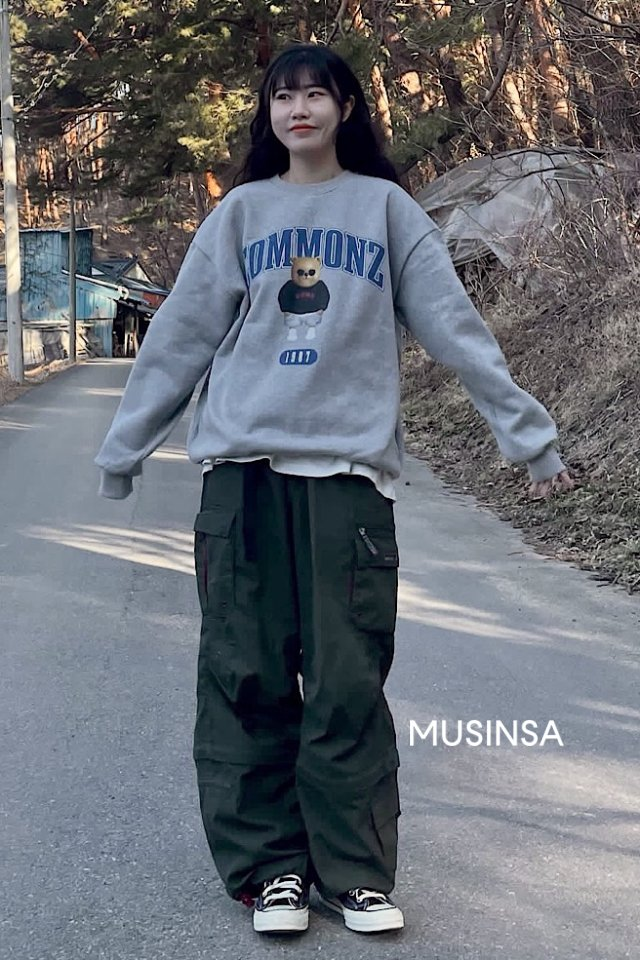Pants: (189, 463, 415, 893)
Shoes: (252, 863, 419, 942)
Sweatshirt: (130, 167, 456, 477)
